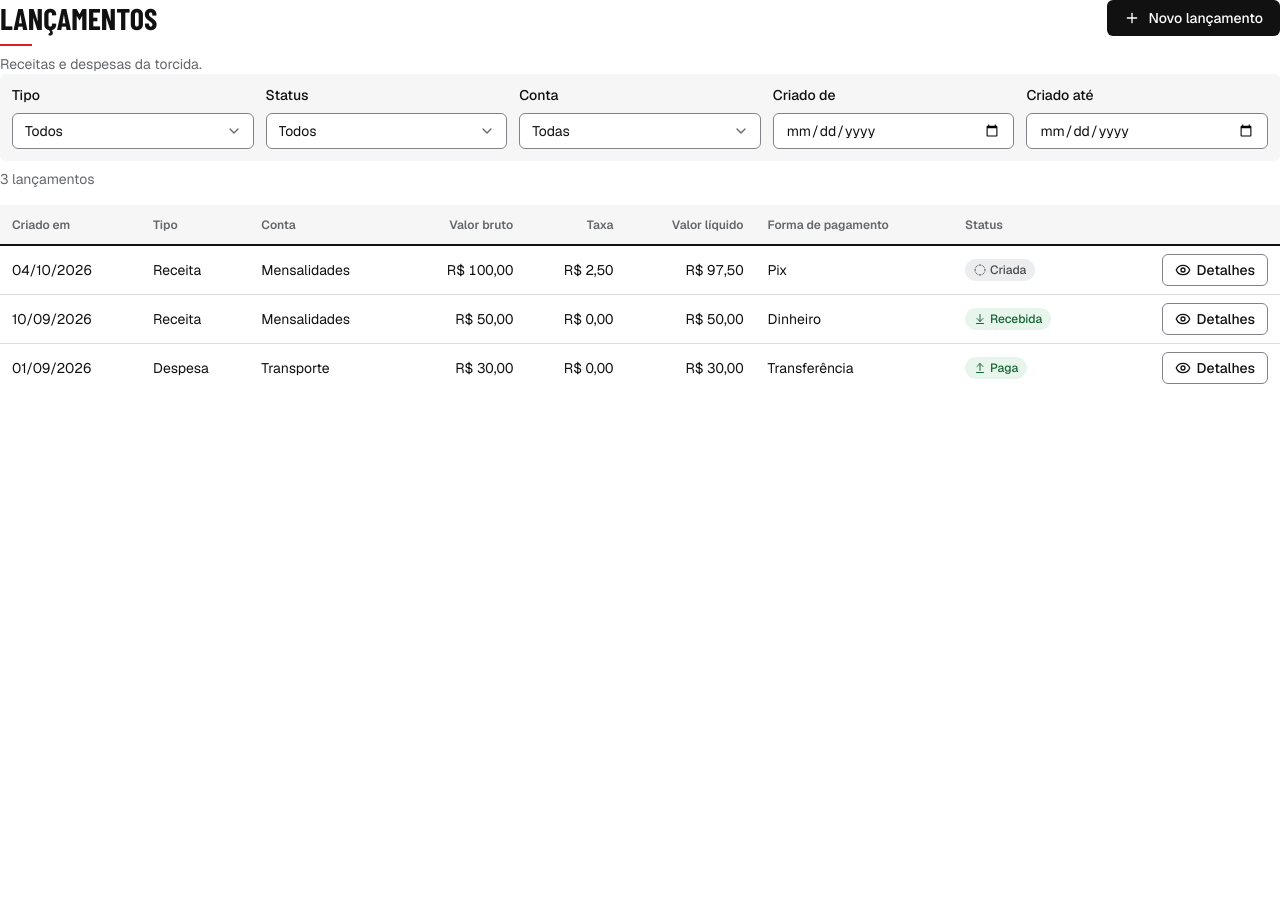
Test: erros da API junto do campo › conta_invalida
Expected: the heading "Lançamentos" is shown, [0,0,157,46]
Click the button "Novo lançamento" at [1194, 18], box [1107,0,1279,36]
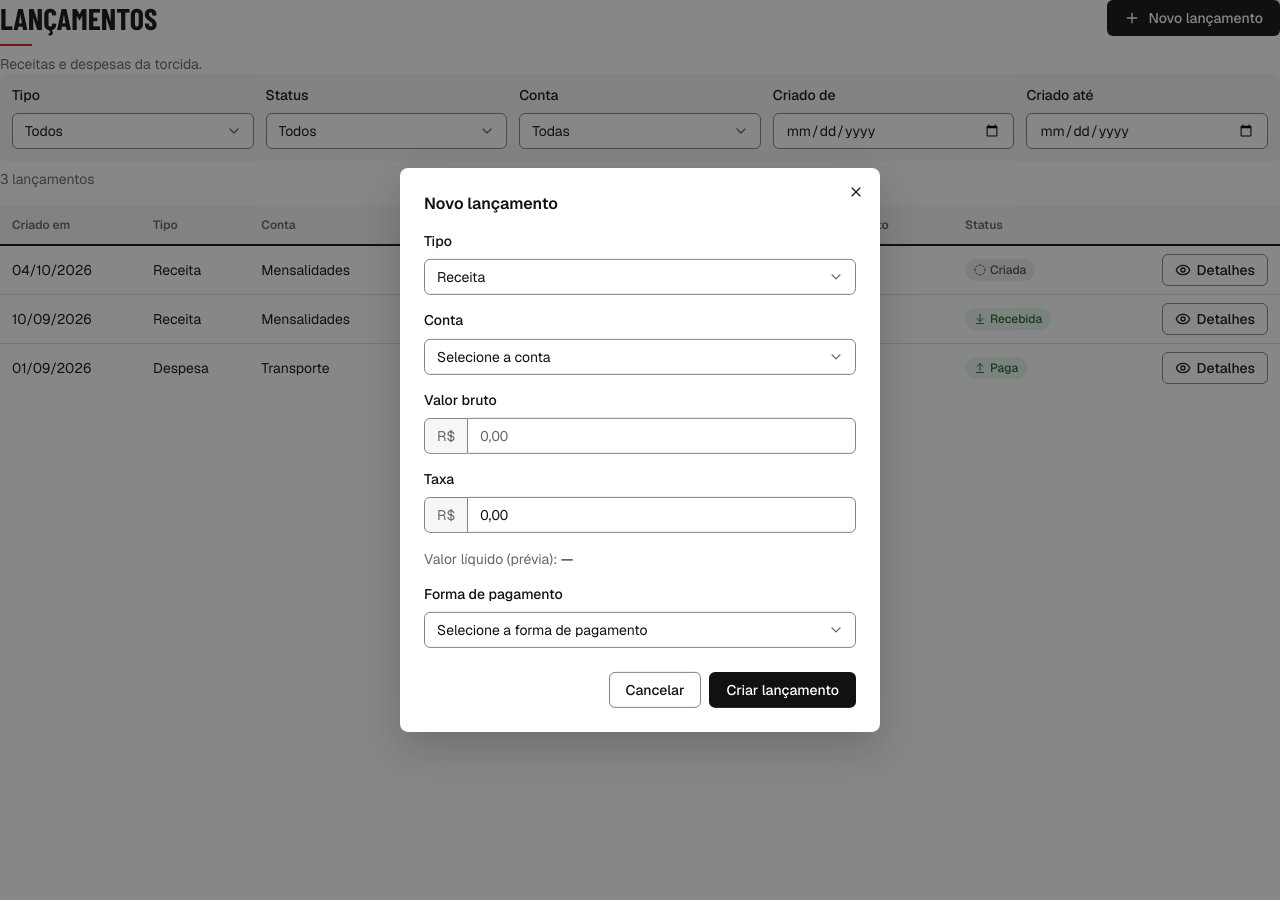
Expected: the dialog is shown, [400,168,880,732]
Select "Mensalidades" in the dropdown labelled "Conta" at [640, 356], box [424,338,856,374]
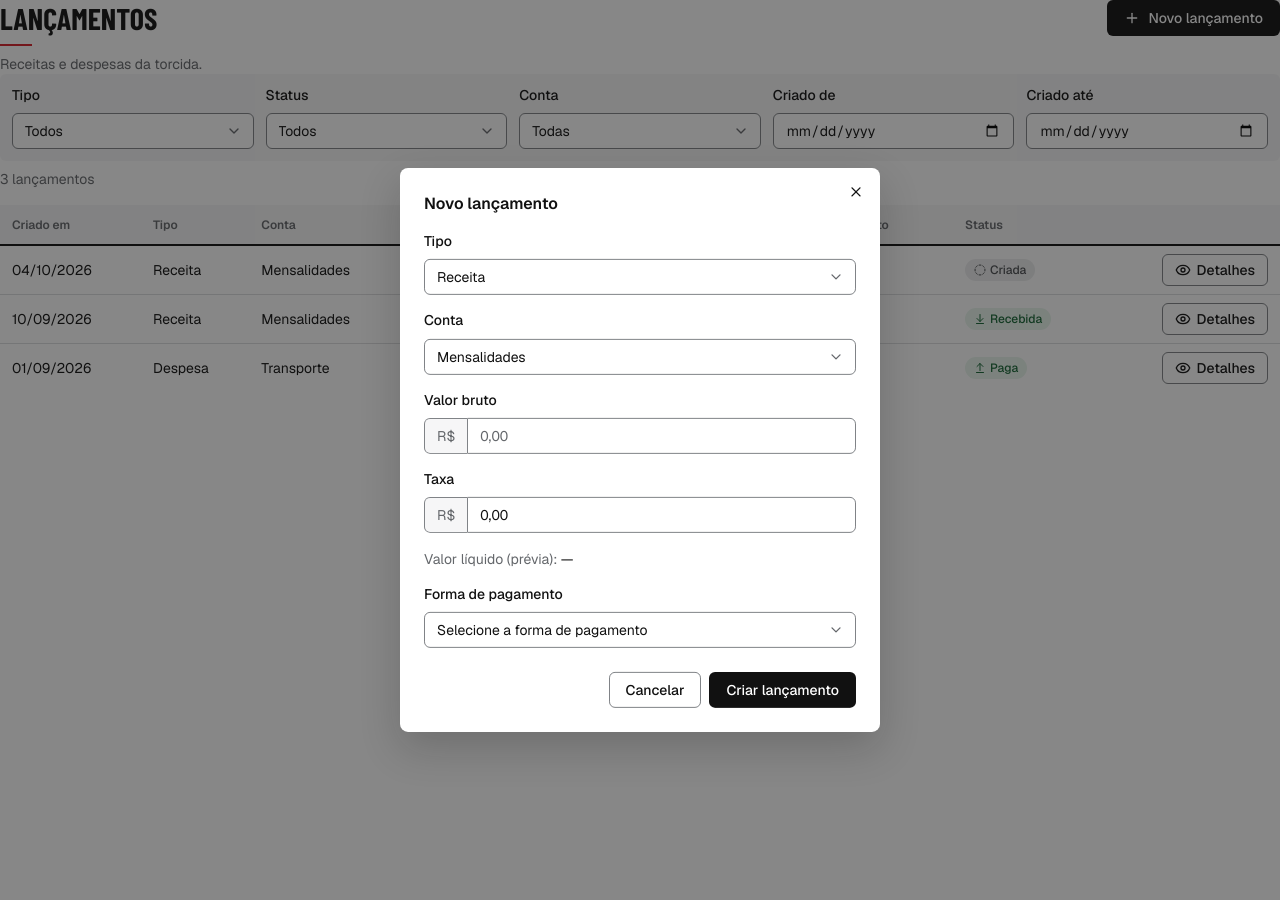
Type "10,00" into the field labelled "Valor bruto" at [662, 436], box [467,418,856,454]
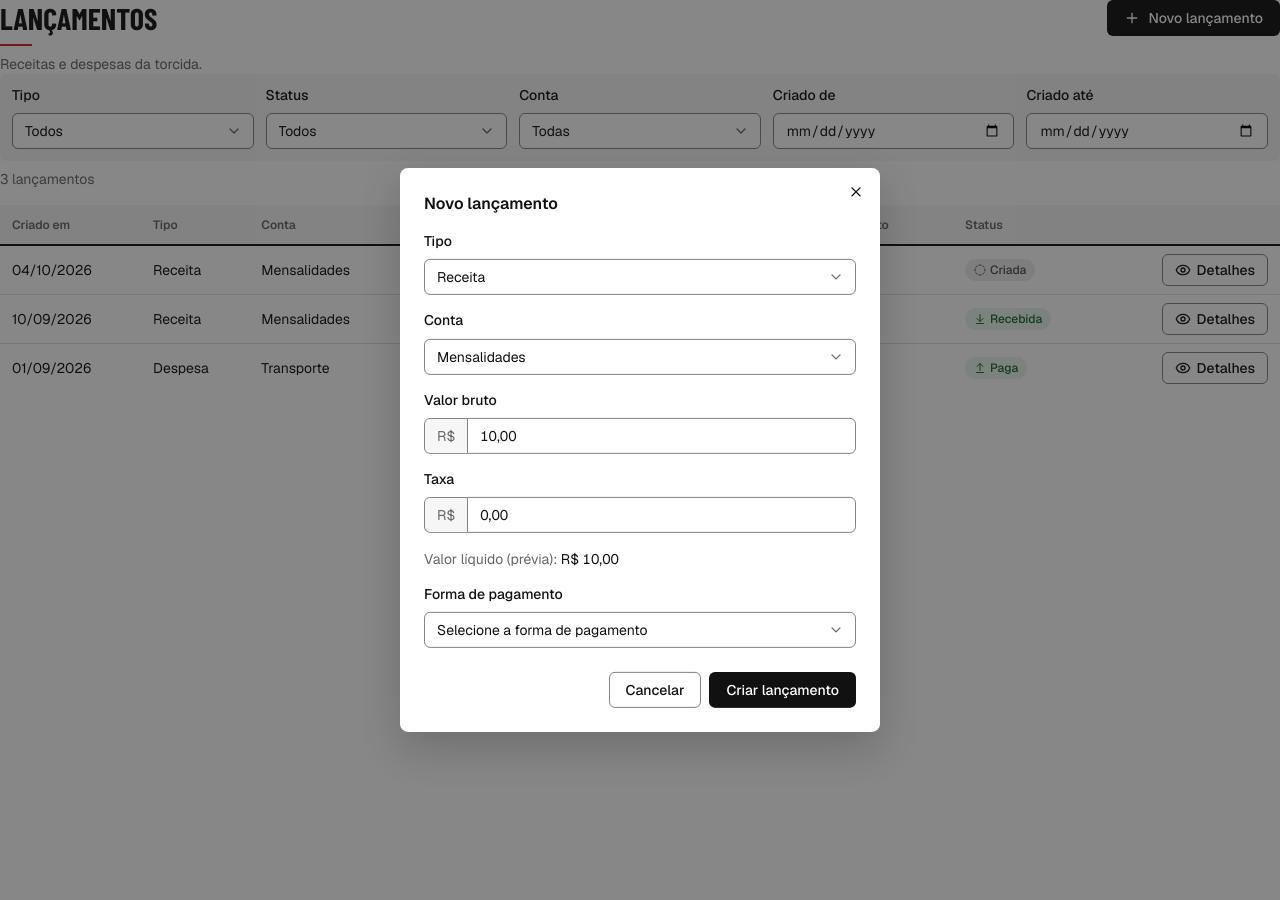
Select "Pix" in the dropdown labelled "Forma de pagamento" at [640, 630], box [424,612,856,648]
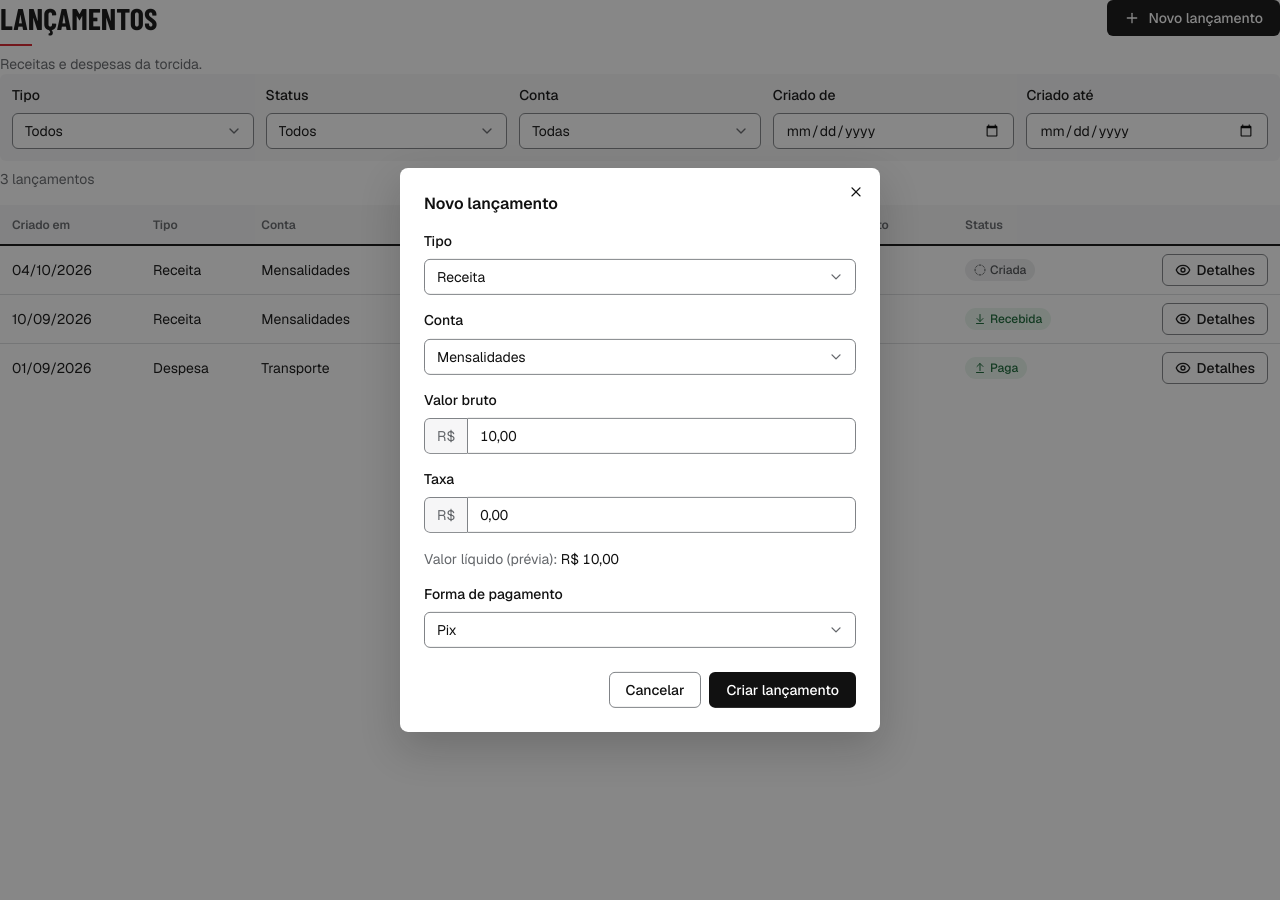
Click the button "Criar lançamento" at [783, 690], box [710,672,856,708]
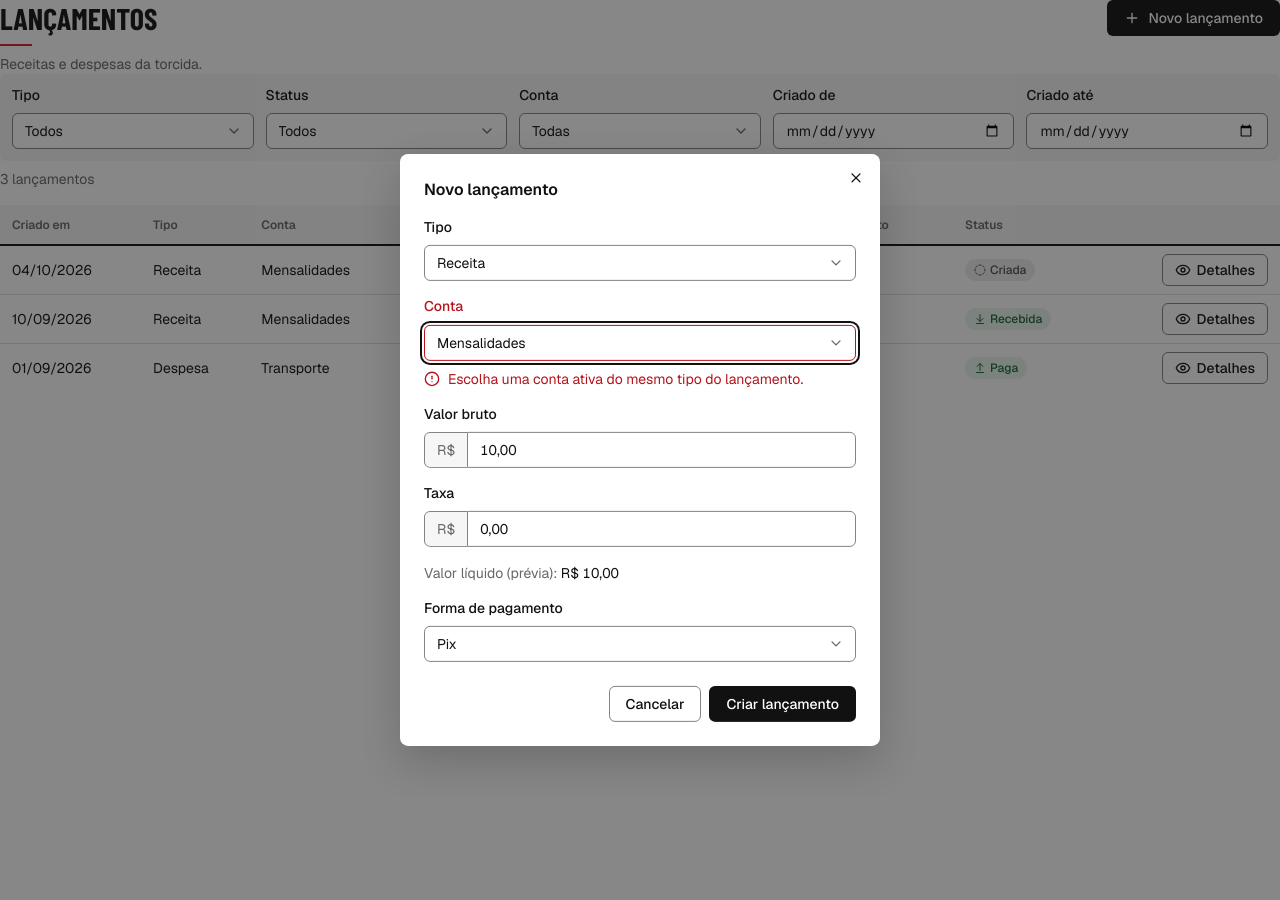
Expected: the dialog is shown, [400,154,880,746]
Expected: the text "Escolha uma conta ativa do mesmo tipo do lançamento." is shown, [424,368,856,388]
